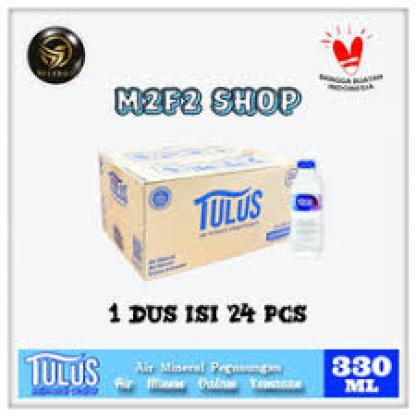Glass Bottle: (288, 158, 328, 257)
